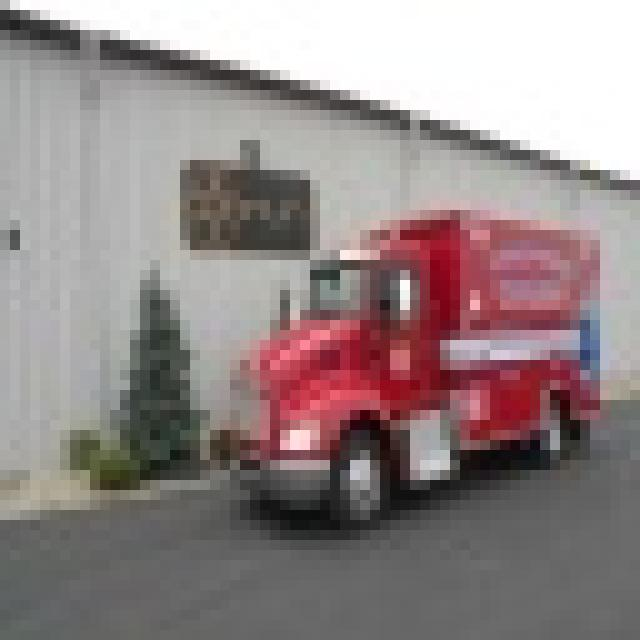Ambulance: (210, 200, 600, 520)
